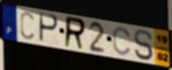2: (89, 20, 106, 55)
C: (112, 26, 133, 57), (19, 10, 35, 41)
P: (39, 12, 60, 45)
R: (63, 15, 87, 52)
S: (133, 29, 154, 62)
